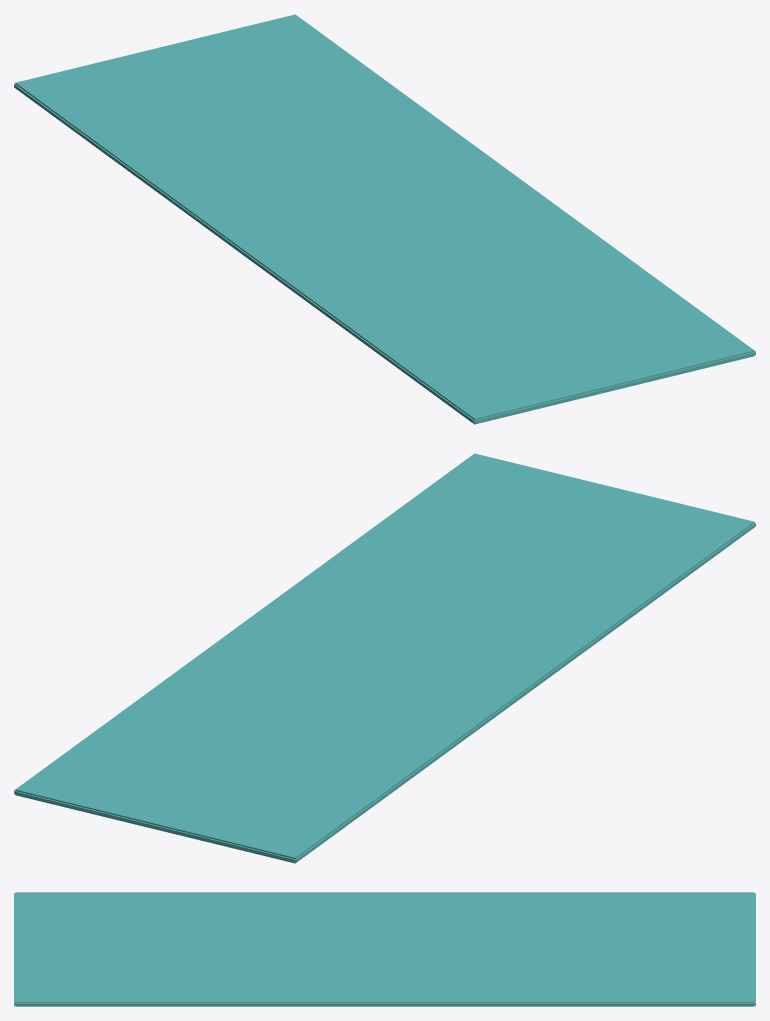
File: yoga_mat.glb
The picture shows the model from 3 angles, top to bottom: view 1: azimuth 30°, elevation 25°; view 2: azimuth 150°, elevation 25°; view 3: azimuth 270°, elevation 25°; orthographic projection. The views are drawn at different scales.
Parts seen in each view (by area): view 1: yoga_mat; view 2: yoga_mat; view 3: yoga_mat.
Part boxes in pixels (x1,y1,x2,y2): yoga_mat: (14, 14, 755, 424); yoga_mat: (14, 453, 755, 863); yoga_mat: (14, 892, 755, 1006).
Size of the model in its own units: 0.62 by 0.012 by 1.75.
